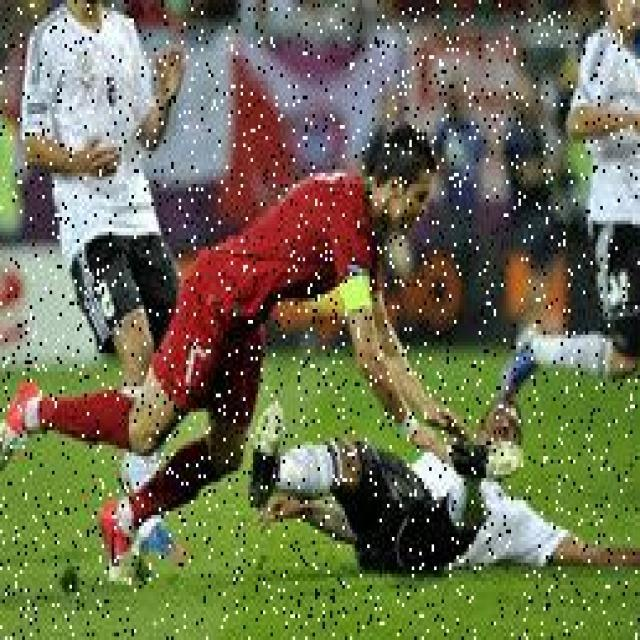fall: (8, 136, 444, 574), (250, 398, 580, 578)
